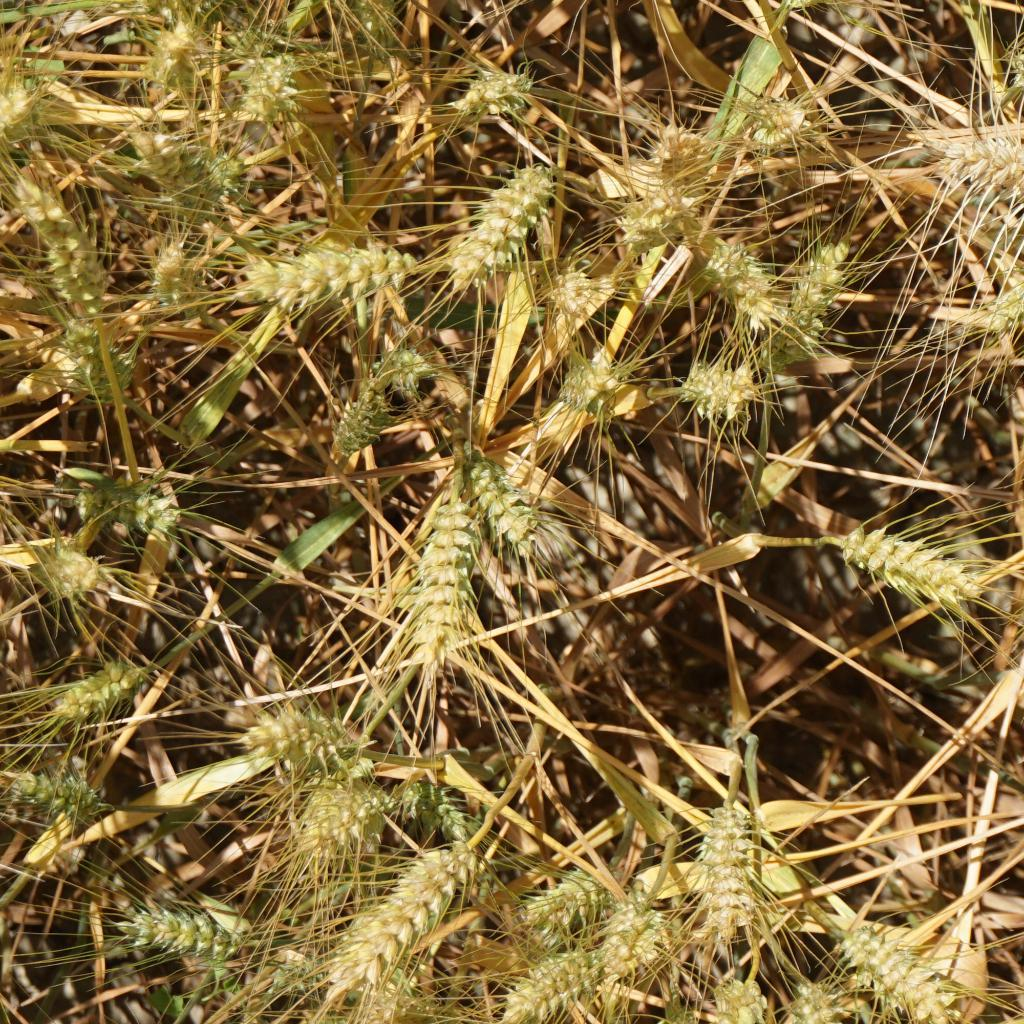0-0: (314, 844, 464, 967), (239, 224, 409, 309), (830, 921, 960, 1016), (834, 522, 970, 610), (417, 494, 483, 674), (16, 175, 111, 295), (909, 118, 1024, 212), (67, 471, 184, 547), (60, 310, 139, 421), (104, 893, 238, 958), (694, 788, 754, 927), (499, 930, 602, 1008), (700, 243, 787, 335), (238, 701, 361, 765), (763, 231, 863, 306), (48, 642, 145, 719), (294, 766, 380, 847), (473, 451, 546, 546), (730, 81, 814, 159), (238, 28, 300, 130), (129, 135, 216, 207), (13, 757, 115, 816), (26, 535, 109, 607), (135, 226, 201, 316), (311, 385, 401, 451), (675, 352, 754, 421), (640, 109, 704, 192), (967, 235, 1024, 323), (745, 309, 830, 367), (530, 860, 606, 921), (143, 23, 204, 93), (558, 360, 627, 418), (403, 765, 458, 837), (465, 58, 532, 115), (370, 337, 437, 388), (186, 143, 247, 199), (712, 962, 765, 1024), (626, 190, 683, 247), (604, 893, 651, 960), (773, 973, 834, 1021), (264, 943, 315, 999), (550, 260, 596, 316), (0, 88, 39, 148), (352, 0, 402, 35), (998, 23, 1024, 88), (784, 0, 848, 16)
